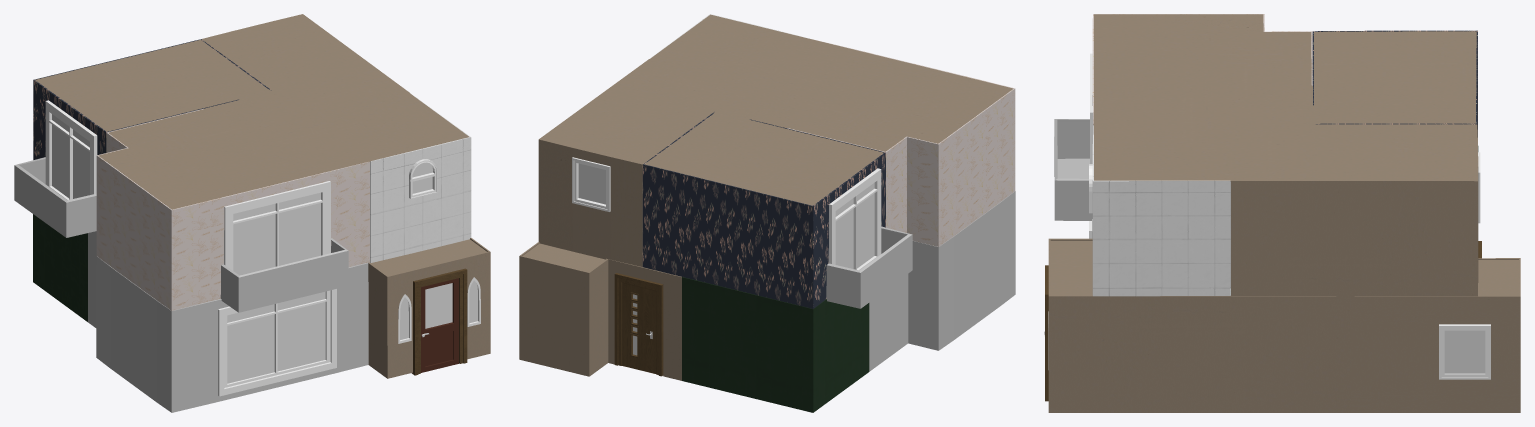
Rendered from inside_house.fbx.
3 views of the same model, side by side, from view 1: azimuth 30°, elevation 25°; view 2: azimuth 150°, elevation 25°; view 3: azimuth 270°, elevation 25° (orthographic). The views are drawn at different scales.
Parts seen in each view (by area): view 1: top ceiling, main_bedroom_walls, living_room_walls, bathroom_walls, entryway_walls, living_room_slidoor_glass.001, bedroom_walls, main_bedroom_slidoor_glass.001, kitchen_walls, living_room_slidoor.001, main_bedroom_slidoor.001, front_door.001 (+6 smaller); view 2: top ceiling, bedroom_walls, kitchen_walls, living_room_walls, main_bedroom_walls, laundry_walls, hallway_walls, back_door.001, bedroom_slidoor_glass.001, bedroom_slidoor.001, back_door_frame.001, ceiling (+2 smaller); view 3: top ceiling, entryway_walls, hallway_walls, laundry_walls, bathroom_walls, main_bedroom_walls, ceiling, laundry_window_glass.001, laundry_window.001, bedroom_walls, front_door_frame.001.
Part boxes in pixels (left/top/right/bottom): top ceiling: left=35, top=14, right=468, bottom=209; main_bedroom_walls: left=96, top=108, right=369, bottom=312; living_room_walls: left=88, top=231, right=368, bottom=412; bathroom_walls: left=370, top=93, right=471, bottom=262; entryway_walls: left=368, top=238, right=490, bottom=378; living_room_slidoor_glass.001: left=227, top=291, right=325, bottom=383; bedroom_walls: left=14, top=39, right=271, bottom=237; main_bedroom_slidoor_glass.001: left=233, top=192, right=320, bottom=275; kitchen_walls: left=33, top=214, right=87, bottom=321; living_room_slidoor.001: left=218, top=289, right=336, bottom=396; main_bedroom_slidoor.001: left=224, top=181, right=330, bottom=270; front_door.001: left=421, top=278, right=458, bottom=372; top ceiling: left=540, top=14, right=1013, bottom=205; bedroom_walls: left=642, top=112, right=912, bottom=308; kitchen_walls: left=605, top=258, right=869, bottom=412; living_room_walls: left=869, top=191, right=1015, bottom=371; main_bedroom_walls: left=787, top=39, right=1015, bottom=246; laundry_walls: left=519, top=242, right=608, bottom=376; hallway_walls: left=538, top=59, right=699, bottom=266; back_door.001: left=621, top=282, right=656, bottom=373; bedroom_slidoor_glass.001: left=835, top=183, right=874, bottom=268; bedroom_slidoor.001: left=828, top=168, right=881, bottom=270; back_door_frame.001: left=614, top=273, right=663, bottom=376; ceiling: left=523, top=243, right=605, bottom=271; top ceiling: left=1094, top=14, right=1476, bottom=181; entryway_walls: left=1048, top=238, right=1354, bottom=412; hallway_walls: left=1231, top=124, right=1478, bottom=296; laundry_walls: left=1351, top=258, right=1520, bottom=412; bathroom_walls: left=1092, top=125, right=1230, bottom=296; main_bedroom_walls: left=1054, top=14, right=1312, bottom=220; ceiling: left=1050, top=241, right=1518, bottom=295; laundry_window_glass.001: left=1444, top=330, right=1485, bottom=373; laundry_window.001: left=1439, top=324, right=1490, bottom=379; bedroom_walls: left=1312, top=30, right=1477, bottom=137; front_door_frame.001: left=1045, top=265, right=1048, bottom=401.
Size of the model in its own units: 903 by 578 by 1067.
